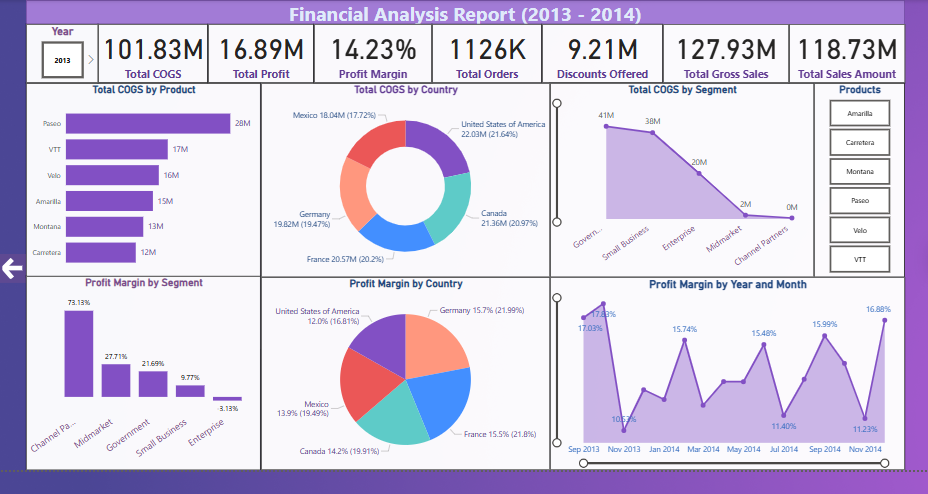

Layout of this report page (visuals, bound fields, positions):
{"tool":"powerbi","page":{"name":"analysis 4","canvas":[1605,813],"ordinal":3},"visuals":[{"type":"shape","box":[45,0,1520,43.3],"z":0},{"type":"card","title":"Profit | Current vs Prior Year","fields":{"Values":["Analysis by measures.Total Profit"]},"box":[359.7,41.5,183.3,102],"z":1000},{"type":"card","title":"Orders | Current vs Prior Year","fields":{"Values":["Analysis by measures.Orders"]},"box":[747.2,41.5,190.2,102],"z":2000},{"type":"card","title":"Profit Margin| Current vs Prior Year","fields":{"Values":["Analysis by measures.Total COGS"]},"box":[169.5,41.5,190.2,102],"z":3000},{"type":"card","title":"Discounts  | Current vs Prior Year","fields":{"Values":["Analysis by measures.Discounts Offered"]},"box":[937.4,41.5,209.3,102],"z":4000},{"type":"barChart","fields":{"Category":["financials.Product"],"Y":["Analysis by measures.Total COGS"]},"box":[45,143.6,406.4,335.5],"z":5000},{"type":"pieChart","fields":{"Category":["financials.Country"],"Y":["Analysis by measures.Profit Margin"]},"box":[451.4,479.1,499.8,333.8],"z":6000},{"type":"lineChart","fields":{"Y":["Analysis by measures.Total COGS"],"Category":["financials.Segment"]},"box":[951.2,143.6,456.6,335.5],"z":7000},{"type":"slicer","title":"Products","fields":{"Values":["financials.Product"]},"box":[1407.8,143.6,157.4,335.5],"z":8000},{"type":"actionButton","box":[0,440.1,44.9,50],"z":10000},{"type":"slicer","title":"Year","fields":{"Values":["Date Table.Date.Variation.Date Hierarchy.Year"]},"box":[45,41.5,124.5,102],"z":11000},{"type":"card","title":"Profit | Current vs Prior Year","fields":{"Values":["Analysis by measures.Total Sales Amount"]},"box":[1364.6,41.5,200.6,102],"z":12000},{"type":"clusteredColumnChart","fields":{"Category":["financials.Segment"],"Y":["Analysis by measures.Profit Margin"]},"box":[45,477.3,406.4,335.5],"z":13000},{"type":"donutChart","fields":{"Category":["financials.Country"],"Y":["Analysis by measures.Total COGS"]},"box":[451.4,143.6,499.8,335.5],"z":14000},{"type":"card","title":"Discounts  | Current vs Prior Year","fields":{"Values":["Analysis by measures.Total Gross Sales"]},"box":[1146.7,41.5,217.9,102],"z":16000},{"type":"areaChart","title":"Profit Margin by Year and Month","fields":{"Category":["Date Table.Date.Variation.Date Hierarchy.Year","Date Table.Date.Variation.Date Hierarchy.Month"],"Y":["Analysis by measures.Profit Margin"]},"box":[951.2,479.1,614,333.8],"z":18000},{"type":"card","title":"Profit Margin| Current vs Prior Year","fields":{"Values":["Analysis by measures.Profit Margin"]},"box":[543.1,41.5,204.1,102],"z":18001}]}

Visuals, with their boxes on the page's 1605x813 design canvas (x1, y1, x2, y2). These are canvas units, not pixel positions in the 928x494 screenshot, which may show the page scaled, cropped or inside an application window:
shape: pyautogui.locateOnScreen(45, 0, 1565, 43)
"Profit | Current vs Prior Year" card: pyautogui.locateOnScreen(360, 42, 543, 144)
"Orders | Current vs Prior Year" card: pyautogui.locateOnScreen(747, 42, 937, 144)
"Profit Margin| Current vs Prior Year" card: pyautogui.locateOnScreen(170, 42, 360, 144)
"Discounts  | Current vs Prior Year" card: pyautogui.locateOnScreen(937, 42, 1147, 144)
barChart - financials.Product x Analysis by measures.Total COGS: pyautogui.locateOnScreen(45, 144, 451, 479)
pieChart - financials.Country x Analysis by measures.Profit Margin: pyautogui.locateOnScreen(451, 479, 951, 813)
lineChart - Analysis by measures.Total COGS x financials.Segment: pyautogui.locateOnScreen(951, 144, 1408, 479)
"Products" slicer: pyautogui.locateOnScreen(1408, 144, 1565, 479)
actionButton: pyautogui.locateOnScreen(0, 440, 45, 490)
"Year" slicer: pyautogui.locateOnScreen(45, 42, 170, 144)
"Profit | Current vs Prior Year" card: pyautogui.locateOnScreen(1365, 42, 1565, 144)
clusteredColumnChart - financials.Segment x Analysis by measures.Profit Margin: pyautogui.locateOnScreen(45, 477, 451, 813)
donutChart - financials.Country x Analysis by measures.Total COGS: pyautogui.locateOnScreen(451, 144, 951, 479)
"Discounts  | Current vs Prior Year" card: pyautogui.locateOnScreen(1147, 42, 1365, 144)
"Profit Margin by Year and Month" areaChart: pyautogui.locateOnScreen(951, 479, 1565, 813)
"Profit Margin| Current vs Prior Year" card: pyautogui.locateOnScreen(543, 42, 747, 144)
